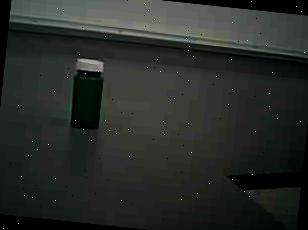Bottle C: (61, 52, 118, 140)
